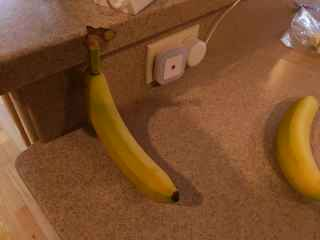banana: (65, 23, 183, 206)
